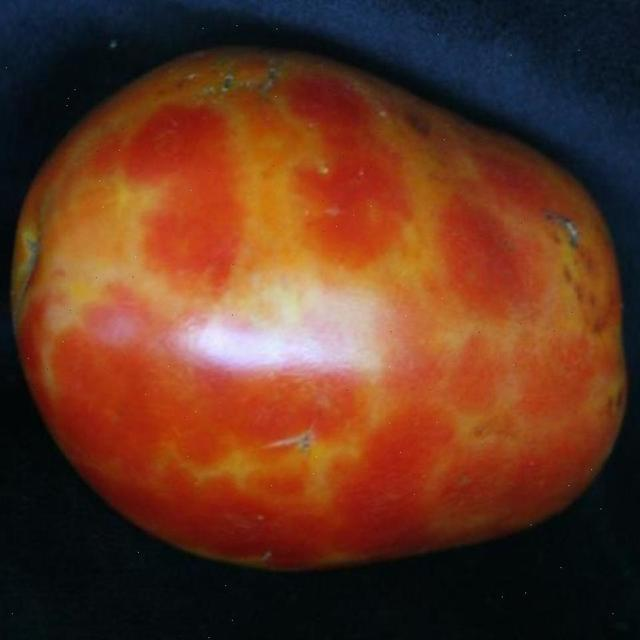Spotted wilt Virus Fruit: (91, 194, 431, 552)
